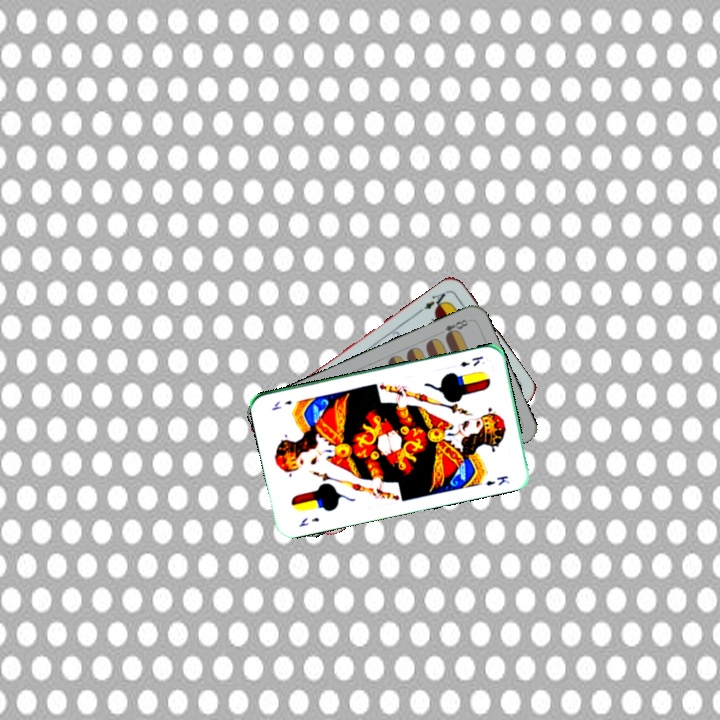E8: (440, 315, 471, 341)
EA: (415, 286, 451, 315)
EK: (456, 352, 486, 369), (295, 513, 322, 529)
